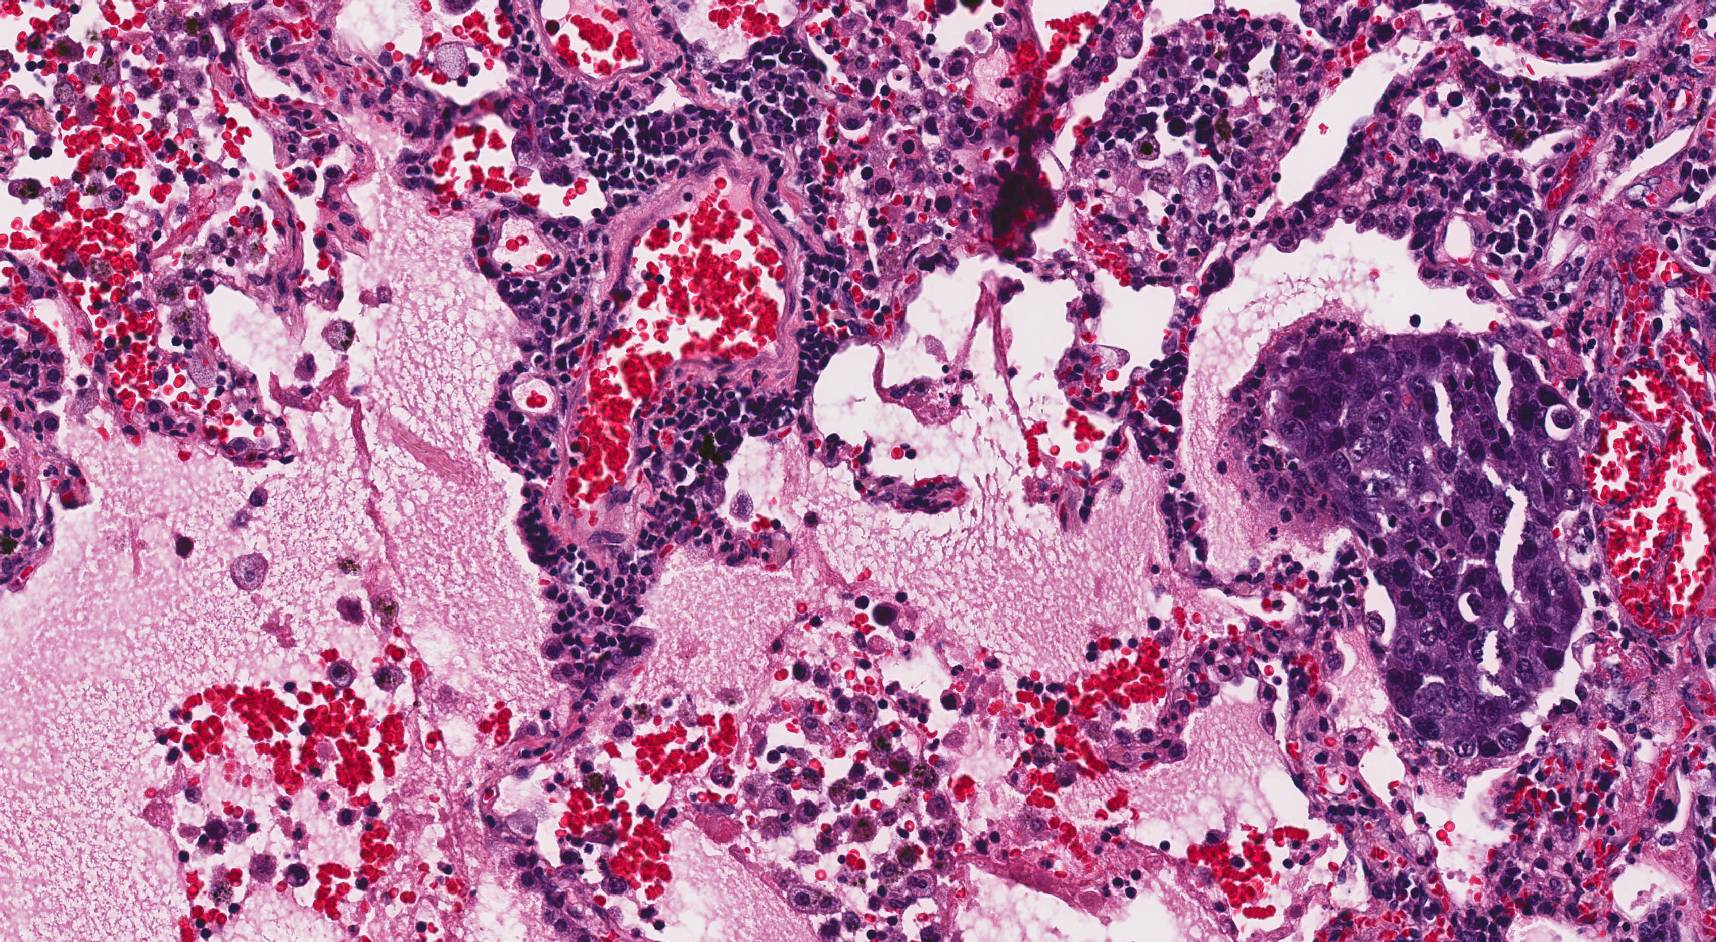stas: (1275, 334, 1583, 763)
